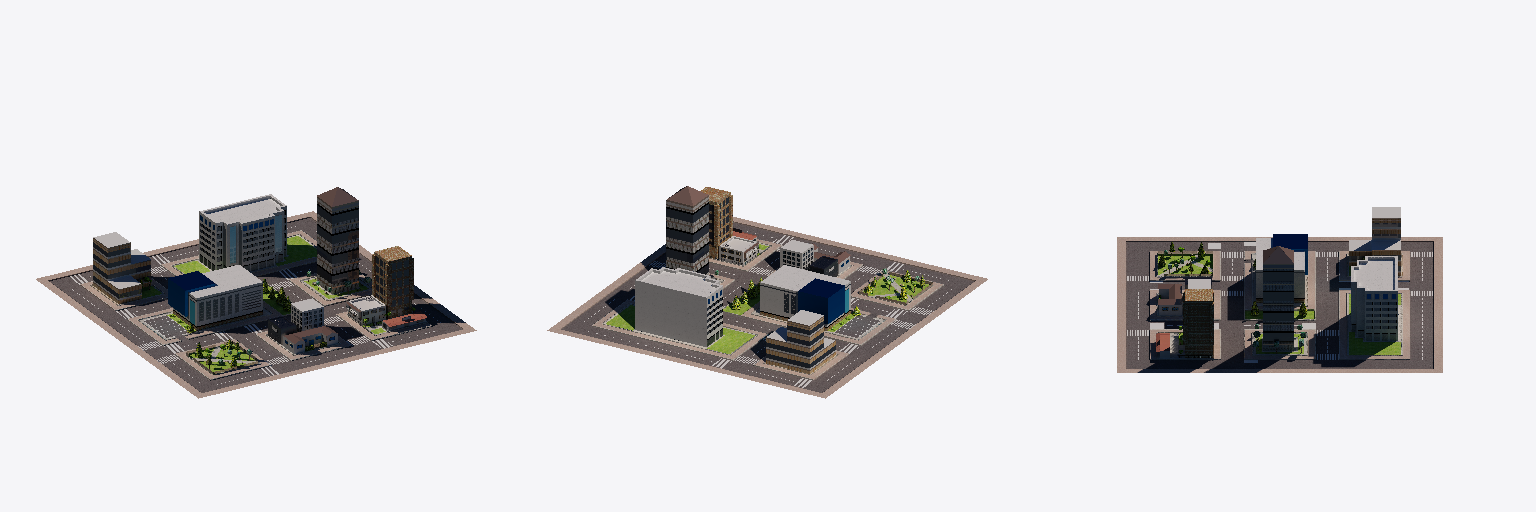
The picture shows the model from 3 angles: view 1: azimuth 30°, elevation 25°; view 2: azimuth 150°, elevation 25°; view 3: azimuth 270°, elevation 25°; orthographic projection.
Parts seen in each view (by area): view 1: Mesh1010 G_3DGeom_24 Assembly_1 SimLab_skp Assembly_2 Model, Mesh305 G_3DGeom_8 Assembly_1 SimLab_skp Assembly_2 Model, Mesh446 G_3DGeom_13 Assembly_1 SimLab_skp Assembly_2 Model, Mesh968 G_3DGeom_20 Assembly_1 SimLab_skp Assembly_2 Model, Mesh464 G_3DGeom_13 Assembly_1 SimLab_skp Assembly_2 Model, Mesh465 G_3DGeom_13 Assembly_1 SimLab_skp Assembly_2 Model, Mesh359 G_3DGeom_10 Assembly_1 SimLab_skp Assembly_2 Model, Mesh314 G_3DGeom_8 Assembly_1 SimLab_skp Assembly_2 Model, Mesh1097 G_3DGeom_25 Assembly_1 SimLab_skp Assembly_2 Model, Mesh59 G_3DGeom_4 Assembly_1 SimLab_skp Assembly_2 Model, Mesh26 G_3DGeom_4 Assembly_1 SimLab_skp Assembly_2 Model, Mesh333 G_3DGeom_9 Assembly_1 SimLab_skp Assembly_2 Model; view 2: Mesh1010 G_3DGeom_24 Assembly_1 SimLab_skp Assembly_2 Model, Mesh446 G_3DGeom_13 Assembly_1 SimLab_skp Assembly_2 Model, Mesh305 G_3DGeom_8 Assembly_1 SimLab_skp Assembly_2 Model, Mesh359 G_3DGeom_10 Assembly_1 SimLab_skp Assembly_2 Model, Mesh464 G_3DGeom_13 Assembly_1 SimLab_skp Assembly_2 Model, Mesh968 G_3DGeom_20 Assembly_1 SimLab_skp Assembly_2 Model, Mesh312 G_3DGeom_8 Assembly_1 SimLab_skp Assembly_2 Model, Mesh465 G_3DGeom_13 Assembly_1 SimLab_skp Assembly_2 Model, Mesh1094 G_3DGeom_25 Assembly_1 SimLab_skp Assembly_2 Model, Mesh314 G_3DGeom_8 Assembly_1 SimLab_skp Assembly_2 Model, Mesh26 G_3DGeom_4 Assembly_1 SimLab_skp Assembly_2 Model, Mesh59 G_3DGeom_4 Assembly_1 SimLab_skp Assembly_2 Model (+1 smaller); view 3: Mesh1010 G_3DGeom_24 Assembly_1 SimLab_skp Assembly_2 Model, Mesh305 G_3DGeom_8 Assembly_1 SimLab_skp Assembly_2 Model, Mesh446 G_3DGeom_13 Assembly_1 SimLab_skp Assembly_2 Model, Mesh968 G_3DGeom_20 Assembly_1 SimLab_skp Assembly_2 Model, Mesh312 G_3DGeom_8 Assembly_1 SimLab_skp Assembly_2 Model, Mesh314 G_3DGeom_8 Assembly_1 SimLab_skp Assembly_2 Model, Mesh1097 G_3DGeom_25 Assembly_1 SimLab_skp Assembly_2 Model, Mesh310 G_3DGeom_8 Assembly_1 SimLab_skp Assembly_2 Model, Mesh359 G_3DGeom_10 Assembly_1 SimLab_skp Assembly_2 Model, Mesh464 G_3DGeom_13 Assembly_1 SimLab_skp Assembly_2 Model, Mesh307 G_3DGeom_8 Assembly_1 SimLab_skp Assembly_2 Model.
Boxes of the visible parts, <box> form: Mesh1010 G_3DGeom_24 Assembly_1 SimLab_skp Assembly_2 Model: <box>49,218,462,392</box>; Mesh305 G_3DGeom_8 Assembly_1 SimLab_skp Assembly_2 Model: <box>36,211,476,398</box>; Mesh446 G_3DGeom_13 Assembly_1 SimLab_skp Assembly_2 Model: <box>199,194,286,270</box>; Mesh968 G_3DGeom_20 Assembly_1 SimLab_skp Assembly_2 Model: <box>372,246,413,318</box>; Mesh464 G_3DGeom_13 Assembly_1 SimLab_skp Assembly_2 Model: <box>188,265,262,299</box>; Mesh465 G_3DGeom_13 Assembly_1 SimLab_skp Assembly_2 Model: <box>173,286,262,326</box>; Mesh359 G_3DGeom_10 Assembly_1 SimLab_skp Assembly_2 Model: <box>168,271,214,316</box>; Mesh314 G_3DGeom_8 Assembly_1 SimLab_skp Assembly_2 Model: <box>129,301,281,343</box>; Mesh1097 G_3DGeom_25 Assembly_1 SimLab_skp Assembly_2 Model: <box>276,236,316,265</box>; Mesh59 G_3DGeom_4 Assembly_1 SimLab_skp Assembly_2 Model: <box>348,295,385,324</box>; Mesh26 G_3DGeom_4 Assembly_1 SimLab_skp Assembly_2 Model: <box>291,298,323,332</box>; Mesh333 G_3DGeom_9 Assembly_1 SimLab_skp Assembly_2 Model: <box>317,187,358,208</box>; Mesh1010 G_3DGeom_24 Assembly_1 SimLab_skp Assembly_2 Model: <box>561,222,974,392</box>; Mesh446 G_3DGeom_13 Assembly_1 SimLab_skp Assembly_2 Model: <box>635,267,722,346</box>; Mesh305 G_3DGeom_8 Assembly_1 SimLab_skp Assembly_2 Model: <box>547,217,987,398</box>; Mesh359 G_3DGeom_10 Assembly_1 SimLab_skp Assembly_2 Model: <box>798,278,844,323</box>; Mesh464 G_3DGeom_13 Assembly_1 SimLab_skp Assembly_2 Model: <box>760,265,850,293</box>; Mesh968 G_3DGeom_20 Assembly_1 SimLab_skp Assembly_2 Model: <box>701,187,732,258</box>; Mesh312 G_3DGeom_8 Assembly_1 SimLab_skp Assembly_2 Model: <box>593,300,766,358</box>; Mesh465 G_3DGeom_13 Assembly_1 SimLab_skp Assembly_2 Model: <box>760,285,850,326</box>; Mesh1094 G_3DGeom_25 Assembly_1 SimLab_skp Assembly_2 Model: <box>707,328,754,353</box>; Mesh314 G_3DGeom_8 Assembly_1 SimLab_skp Assembly_2 Model: <box>742,302,894,343</box>; Mesh26 G_3DGeom_4 Assembly_1 SimLab_skp Assembly_2 Model: <box>780,240,813,269</box>; Mesh59 G_3DGeom_4 Assembly_1 SimLab_skp Assembly_2 Model: <box>719,236,756,265</box>; Mesh1010 G_3DGeom_24 Assembly_1 SimLab_skp Assembly_2 Model: <box>1126,242,1433,368</box>; Mesh305 G_3DGeom_8 Assembly_1 SimLab_skp Assembly_2 Model: <box>1117,237,1442,372</box>; Mesh446 G_3DGeom_13 Assembly_1 SimLab_skp Assembly_2 Model: <box>1351,256,1397,340</box>; Mesh968 G_3DGeom_20 Assembly_1 SimLab_skp Assembly_2 Model: <box>1183,289,1213,357</box>; Mesh312 G_3DGeom_8 Assembly_1 SimLab_skp Assembly_2 Model: <box>1340,290,1409,358</box>; Mesh314 G_3DGeom_8 Assembly_1 SimLab_skp Assembly_2 Model: <box>1245,251,1314,308</box>; Mesh1097 G_3DGeom_25 Assembly_1 SimLab_skp Assembly_2 Model: <box>1349,332,1400,354</box>; Mesh310 G_3DGeom_8 Assembly_1 SimLab_skp Assembly_2 Model: <box>1245,330,1314,358</box>; Mesh359 G_3DGeom_10 Assembly_1 SimLab_skp Assembly_2 Model: <box>1273,234,1307,274</box>; Mesh464 G_3DGeom_13 Assembly_1 SimLab_skp Assembly_2 Model: <box>1256,238,1304,271</box>; Mesh307 G_3DGeom_8 Assembly_1 SimLab_skp Assembly_2 Model: <box>1150,251,1219,279</box>.
Bounding box in the file's own units: 100 × 34.17 × 102.
26 materials, 26 textured.